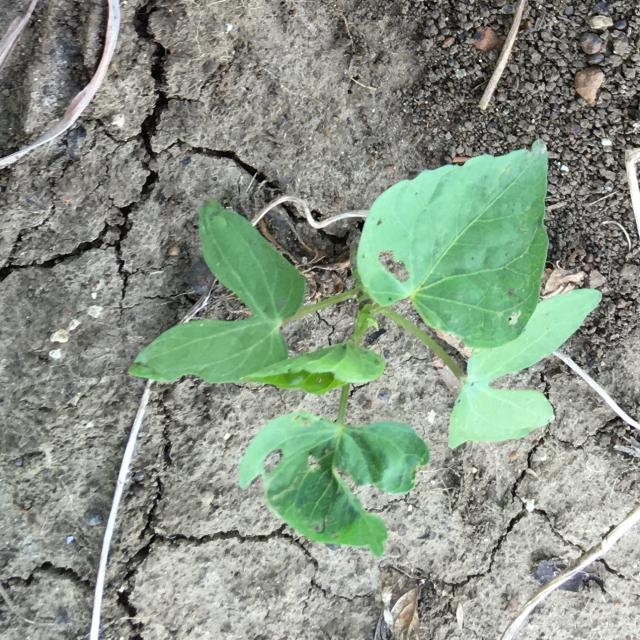MorningGlory: (129, 139, 603, 559)
